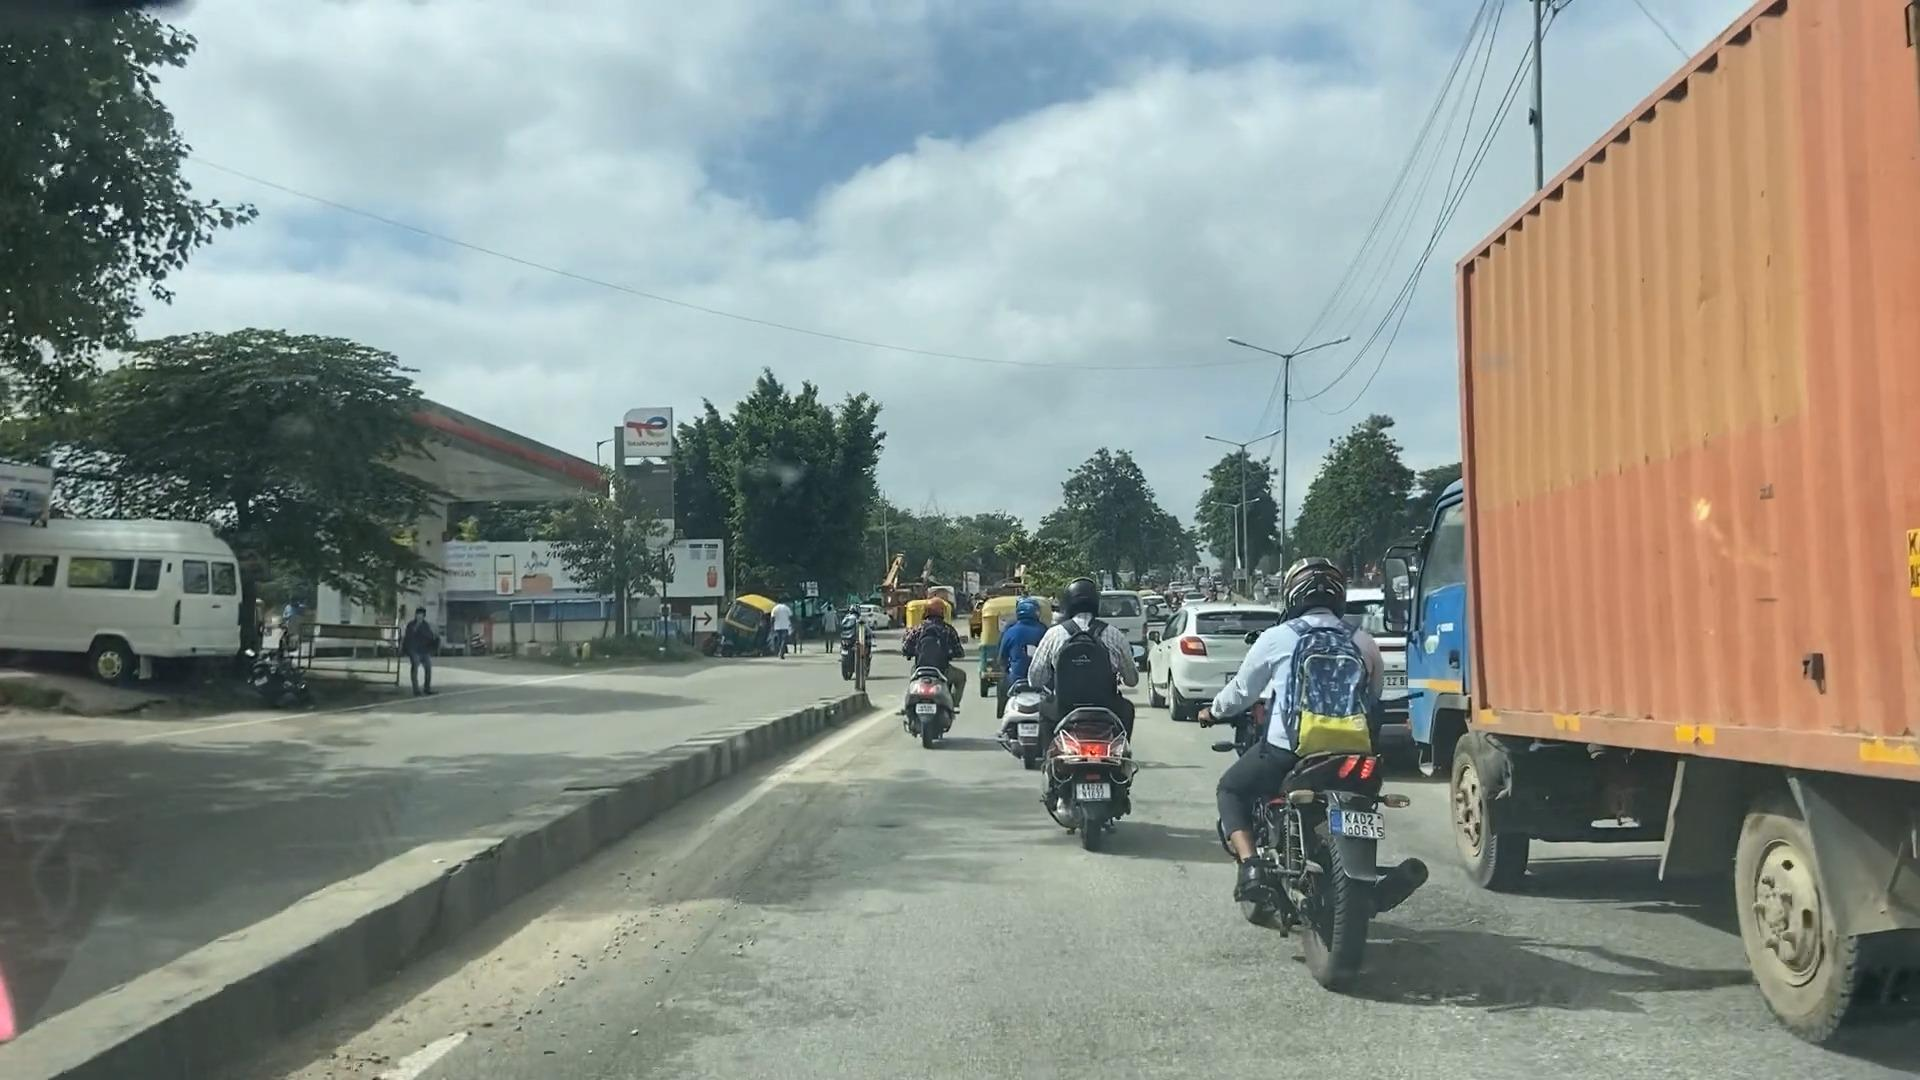LMV: (1261, 570, 1370, 976), (1038, 582, 1139, 847), (909, 603, 967, 738)
